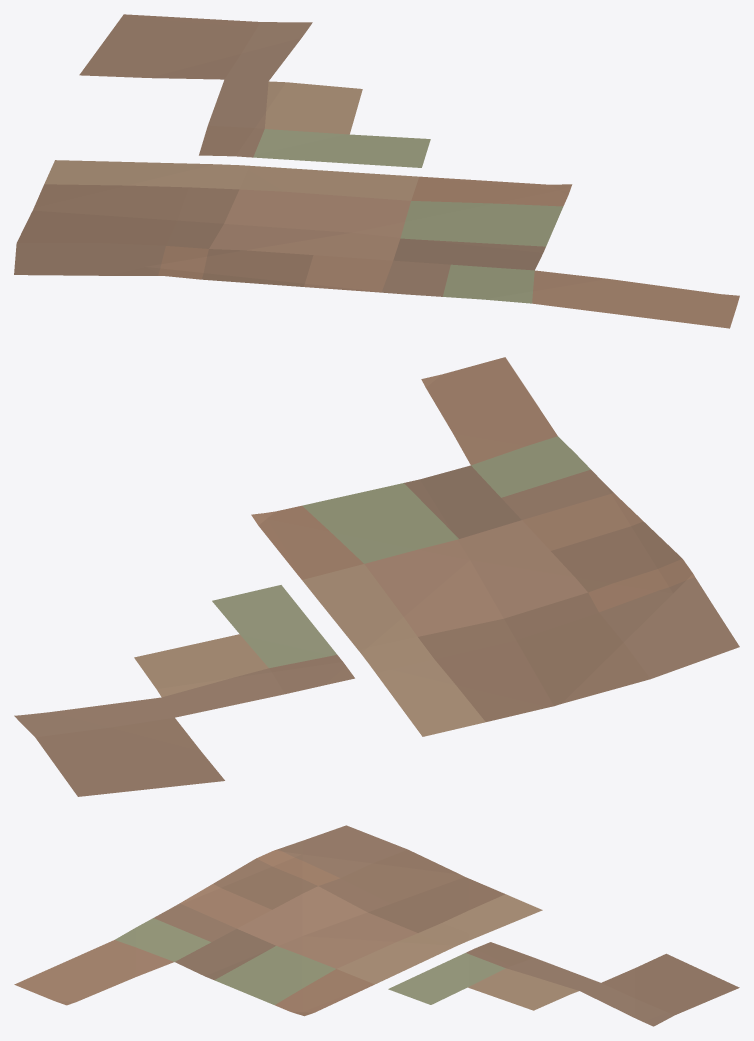
File: farm_-10_-1_soil.glb
The picture shows the model from 3 angles, top to bottom: view 1: azimuth 30°, elevation 25°; view 2: azimuth 150°, elevation 25°; view 3: azimuth 270°, elevation 25°; orthographic projection. The views are drawn at different scales.
Parts seen in each view (by area): view 1: geometry_0; view 2: geometry_0; view 3: geometry_0.
Boxes of the visible parts, <box> form: geometry_0: <box>14,14,739,328</box>; geometry_0: <box>14,357,739,796</box>; geometry_0: <box>14,825,739,1026</box>.
Bounding box in the file's own units: 204 × 20.08 × 349.
